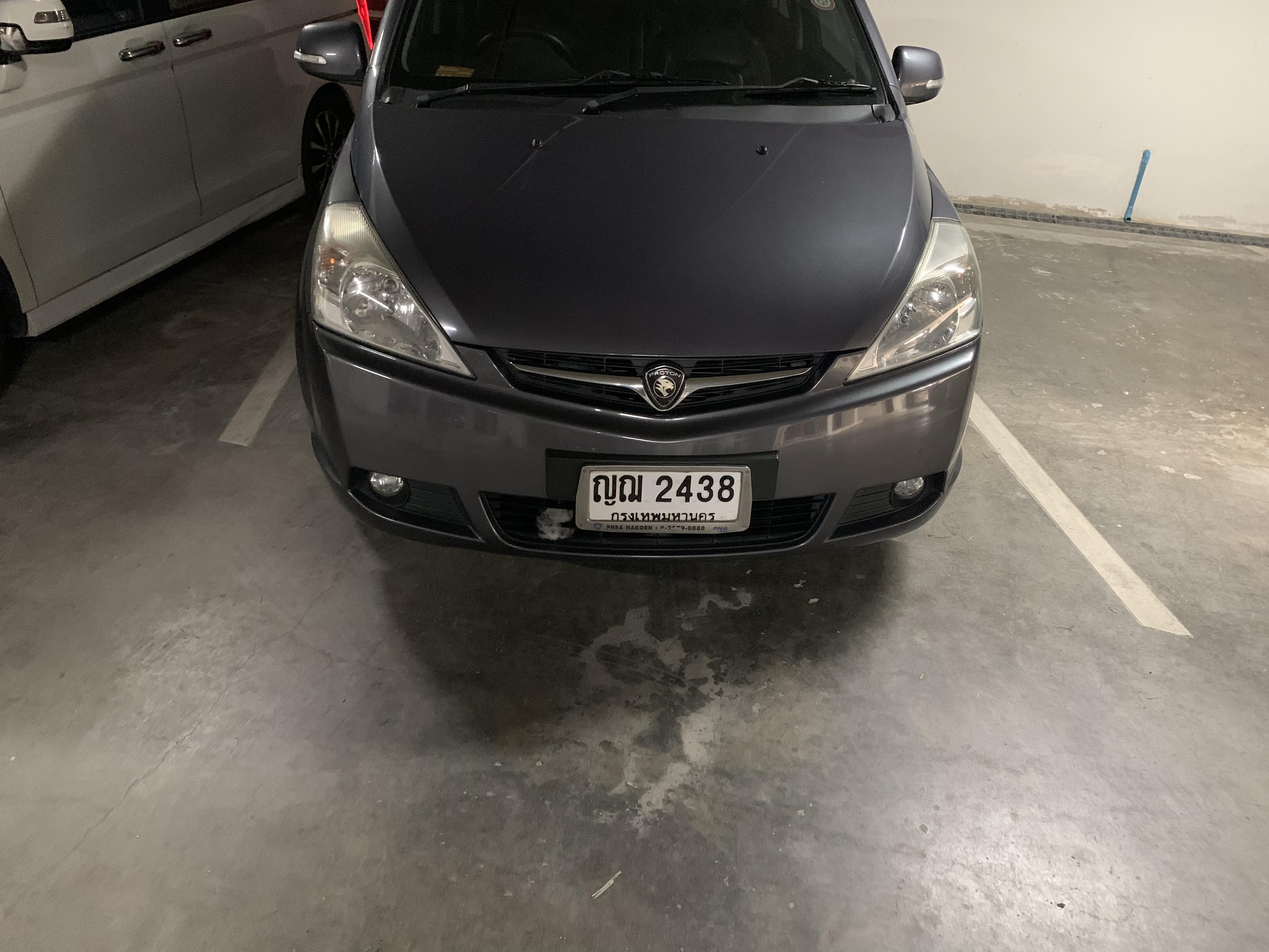license-plate: (575, 464, 762, 537)
